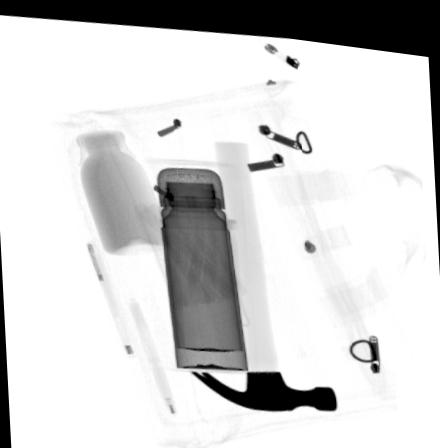Hammer: (188, 134, 338, 405)
